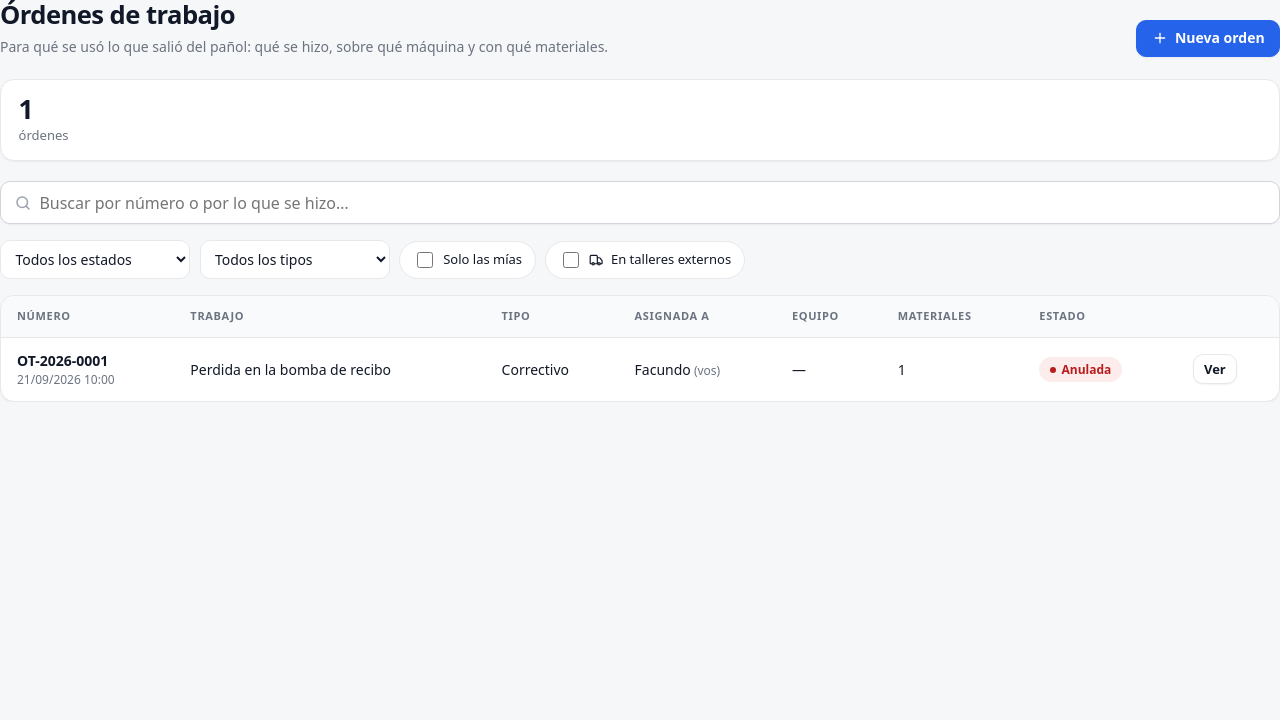
eliminar una orden › REGRESION: sin el permiso de eliminar, el boton no esta
The image size is (1280, 720).
Click the button "Ver" at (1215, 369), box [1193,354,1237,384]
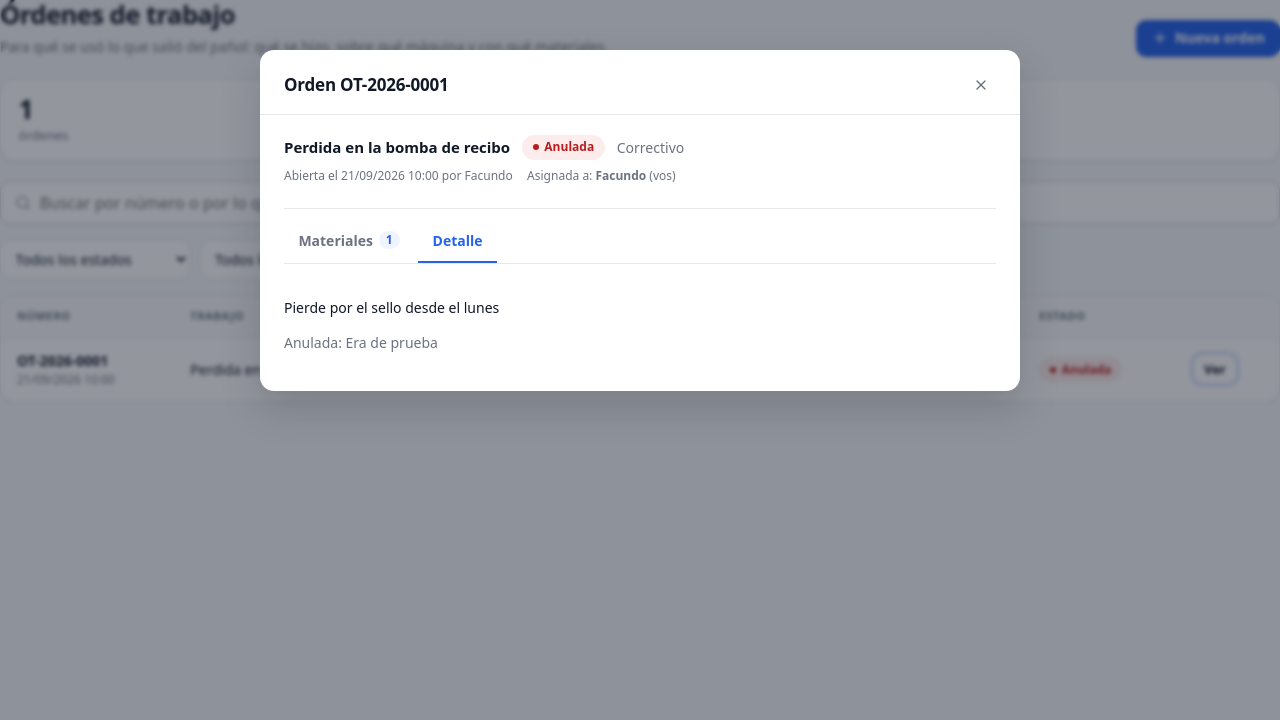
Check: the text "Anulada: Era de prueba" is shown, box [284,333,438,352]
